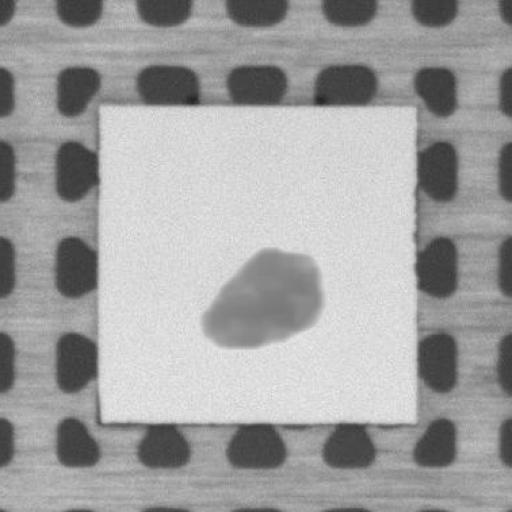DIE_INK: (199, 246, 332, 347)
